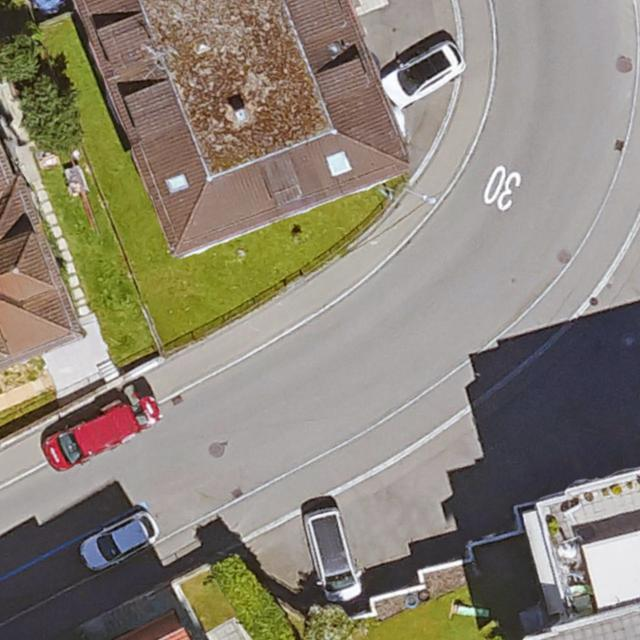tree: (21, 76, 78, 142), (0, 30, 41, 81), (303, 606, 358, 640)
